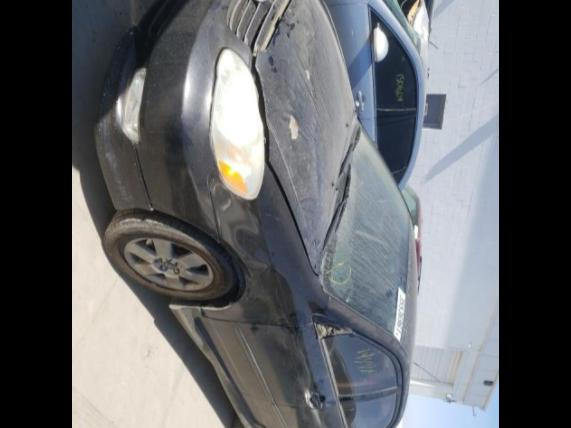Broken part: (248, 48, 314, 268), (132, 146, 158, 208)
Dent: (214, 184, 296, 322), (188, 318, 252, 414)
Missing part: (312, 312, 354, 338)
Paint chip: (304, 70, 309, 78)
